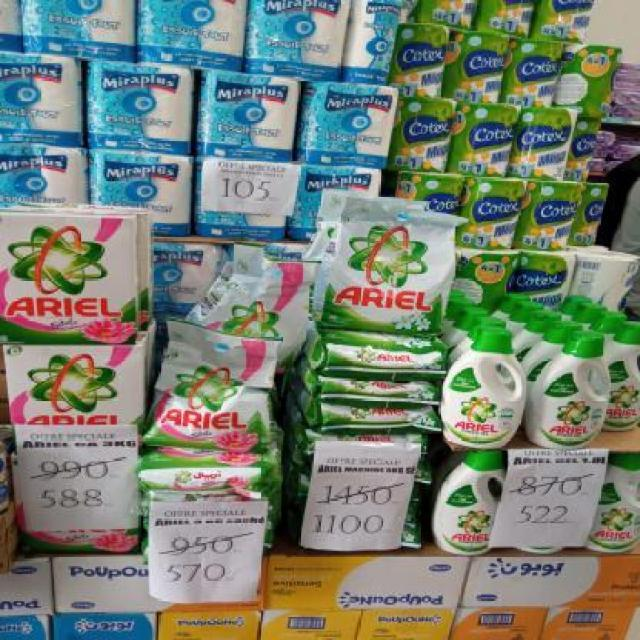Detergent: (323, 198, 459, 334), (0, 213, 140, 344), (139, 325, 275, 456), (2, 342, 146, 426), (436, 326, 527, 448), (532, 338, 610, 449), (314, 332, 450, 383), (435, 448, 497, 556), (138, 452, 281, 498), (595, 449, 639, 553), (600, 322, 640, 433), (317, 377, 443, 409), (315, 406, 443, 432)
